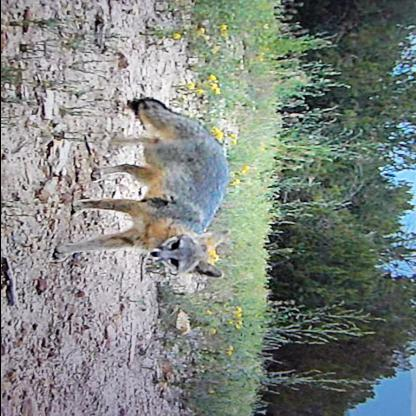zorro: (44, 93, 238, 281)
